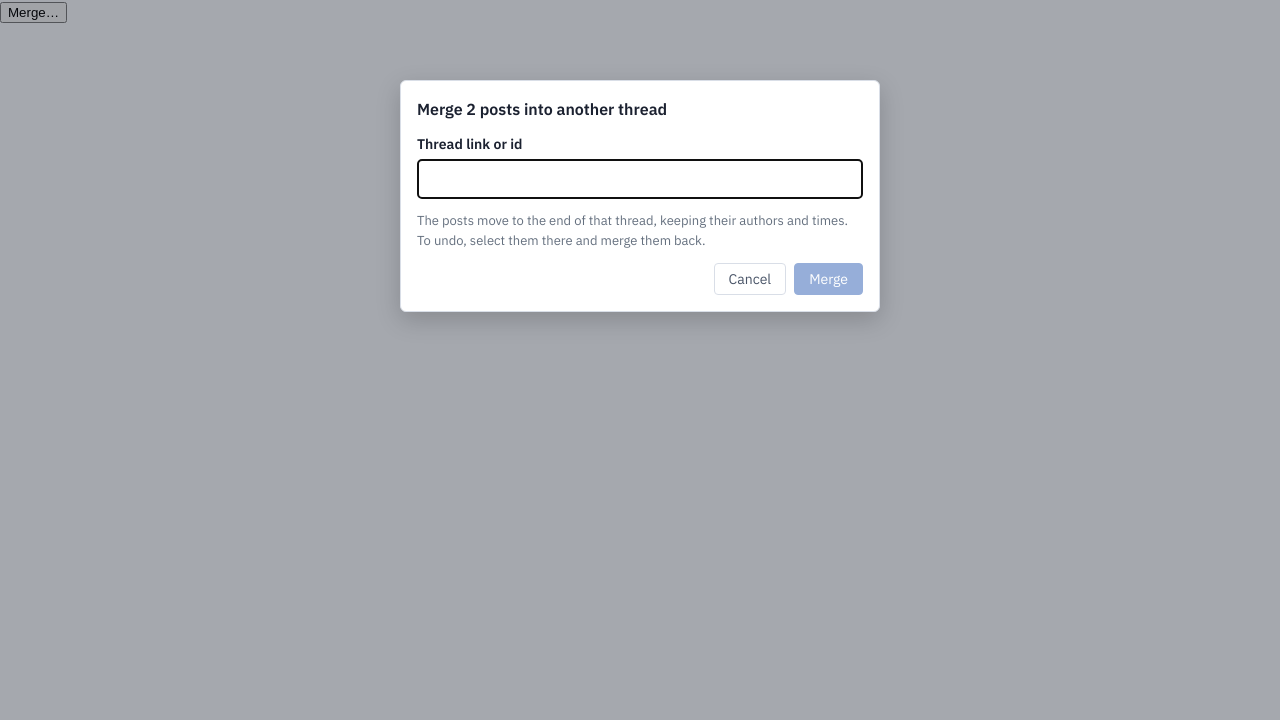
Test: the merge dialog › says why a forbidden refusal was given, and keeps what was typed
Type "3yymw47g00042" into the field labelled "Thread link or id" at [640, 179], box [417,160,863,199]
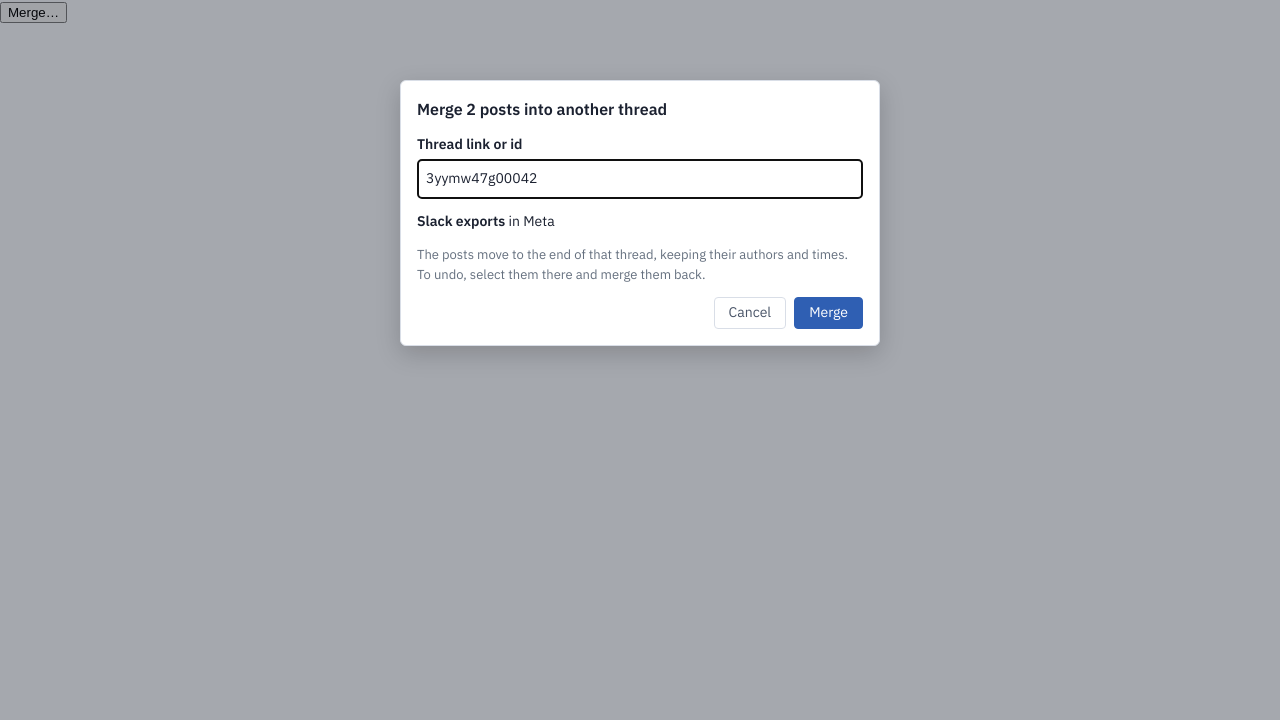
Click the button with class "flag-send" at [829, 313], box [794,297,863,329]
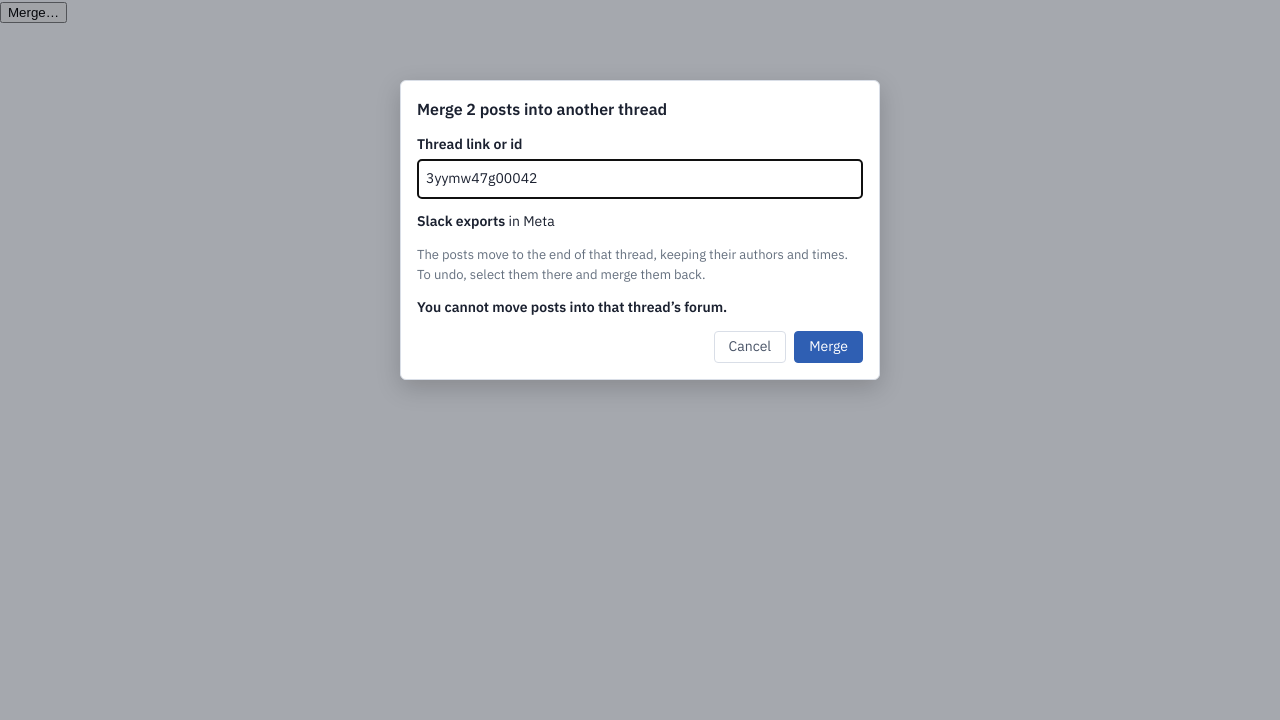
expect the message "You cannot move posts into that thread’s forum." is shown: met, box [417,298,727,316]
